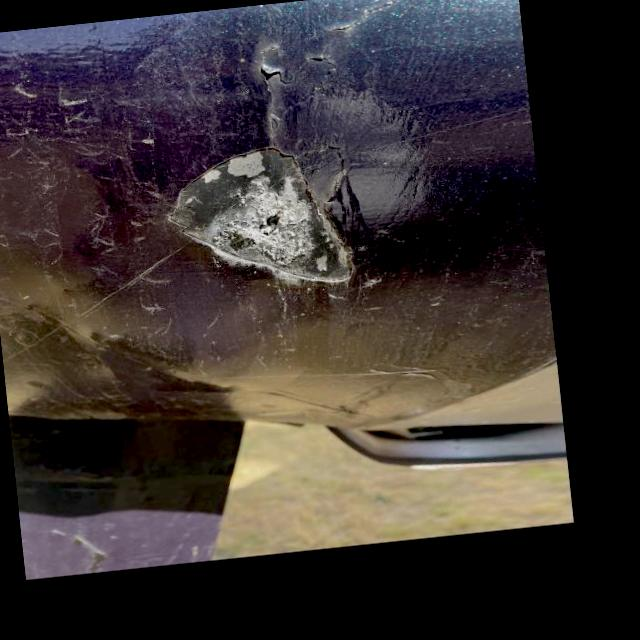crack: (241, 43, 347, 92), (310, 0, 422, 31)
dent: (142, 125, 404, 316)
